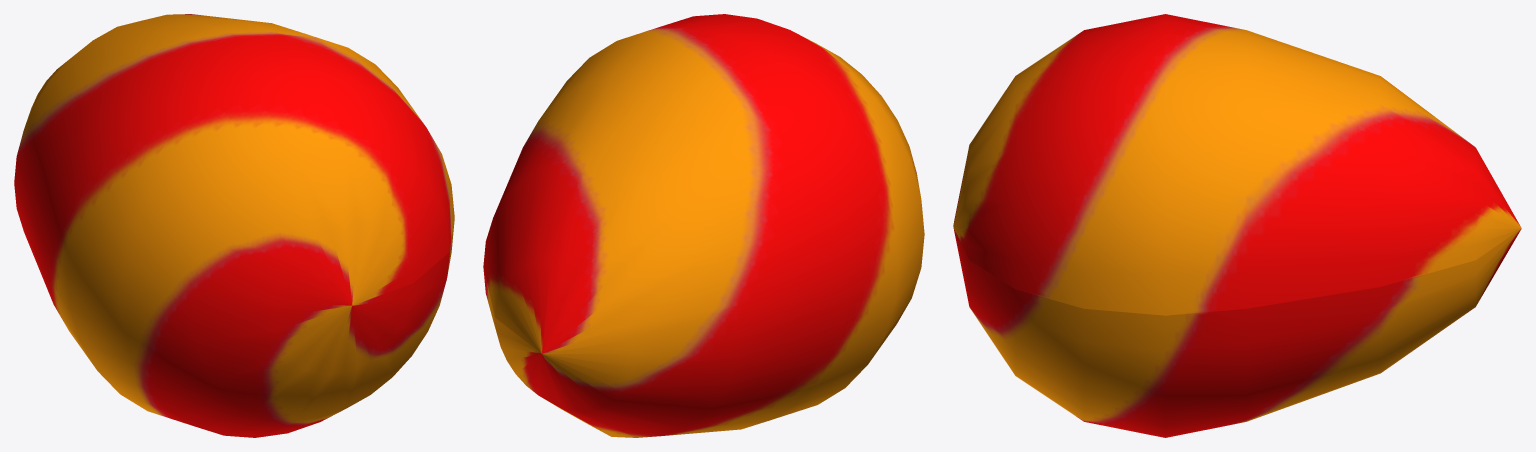
File: easteregg.glb
The picture shows the model from 3 angles, left to right: view 1: azimuth 30°, elevation 25°; view 2: azimuth 150°, elevation 25°; view 3: azimuth 270°, elevation 25°; orthographic projection.
Visible parts, largest first — view 1: Sphere07; view 2: Sphere07; view 3: Sphere07.
Part boxes in pixels (bbox=[...]): Sphere07: bbox=[14, 14, 454, 437]; Sphere07: bbox=[483, 14, 924, 437]; Sphere07: bbox=[953, 14, 1521, 437].
Bounding box in the file's own units: 39 × 39 × 52.25.
Materials: 1 (1 with a texture image).
